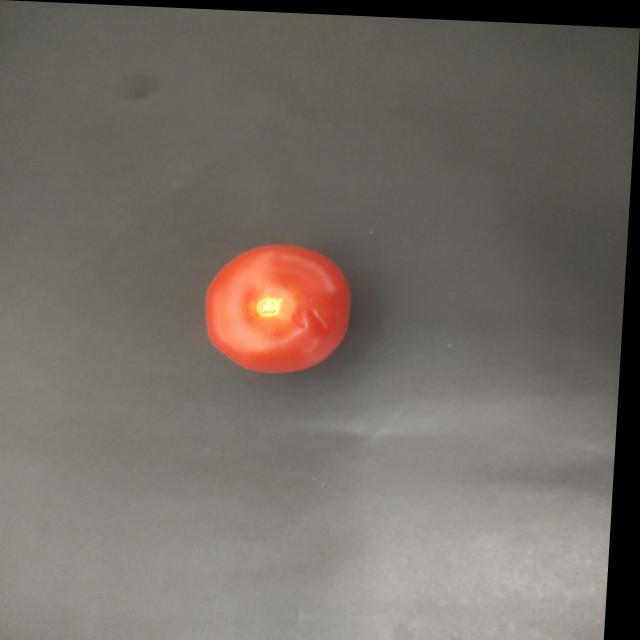kirmizi: (167, 232, 408, 386)
